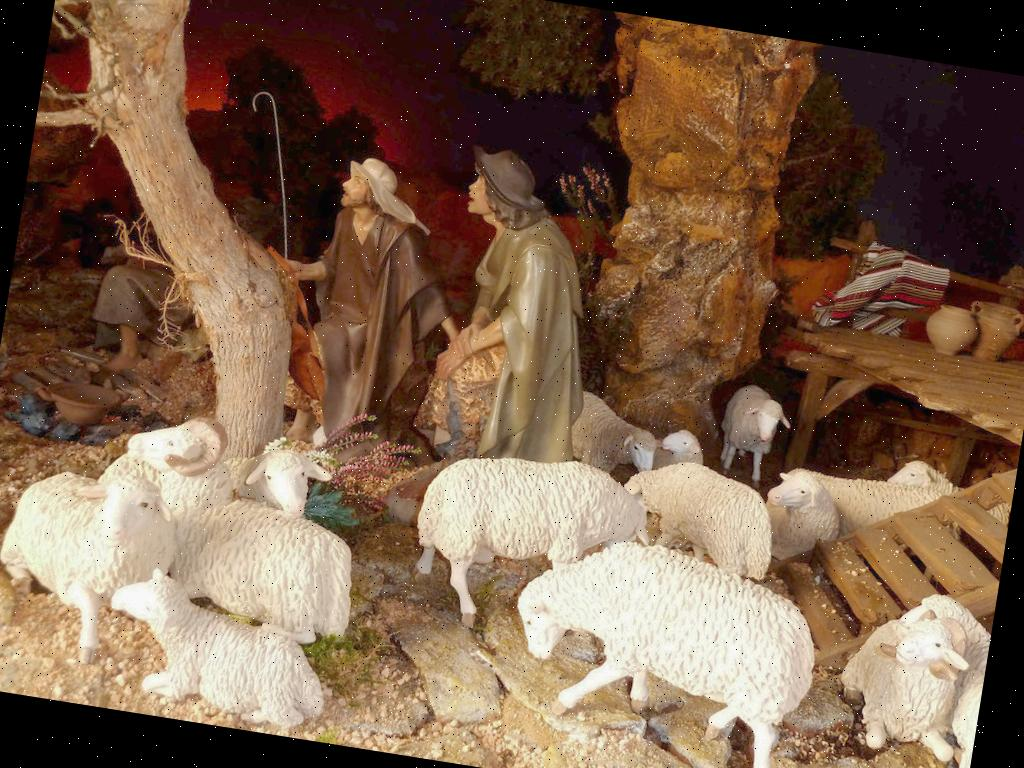Sheep: (484, 517, 834, 768), (94, 404, 390, 656), (90, 558, 351, 727), (0, 432, 178, 653), (816, 594, 982, 762), (604, 452, 785, 587), (806, 436, 963, 548), (212, 426, 331, 523), (736, 462, 846, 564), (556, 400, 676, 484), (712, 368, 794, 488), (652, 408, 716, 474)
